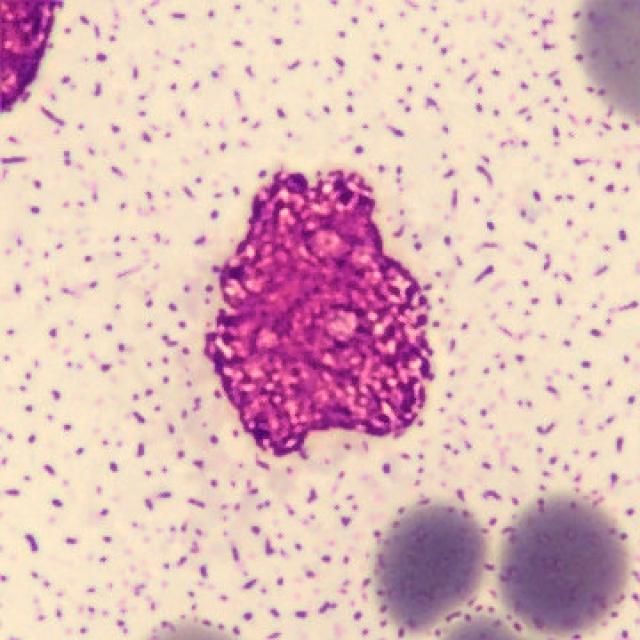Restos celulares: (204, 171, 434, 457)
